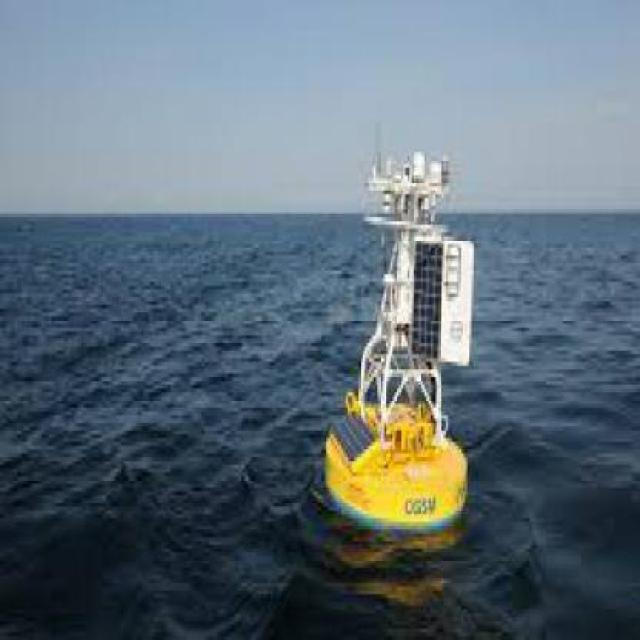buoy: (304, 127, 498, 527)
